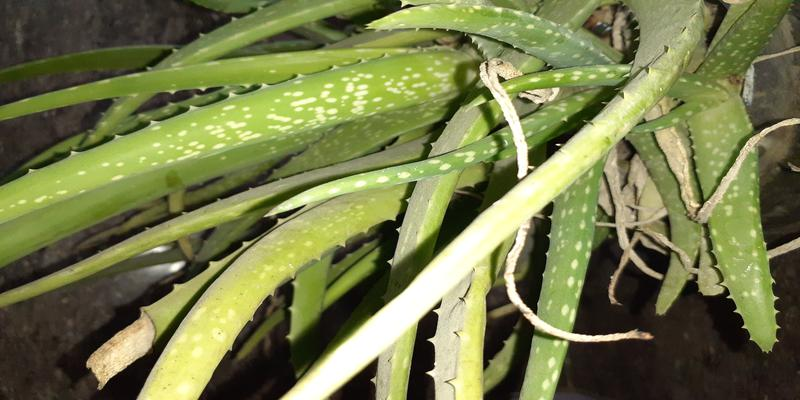Aloevera: (238, 3, 780, 366)
